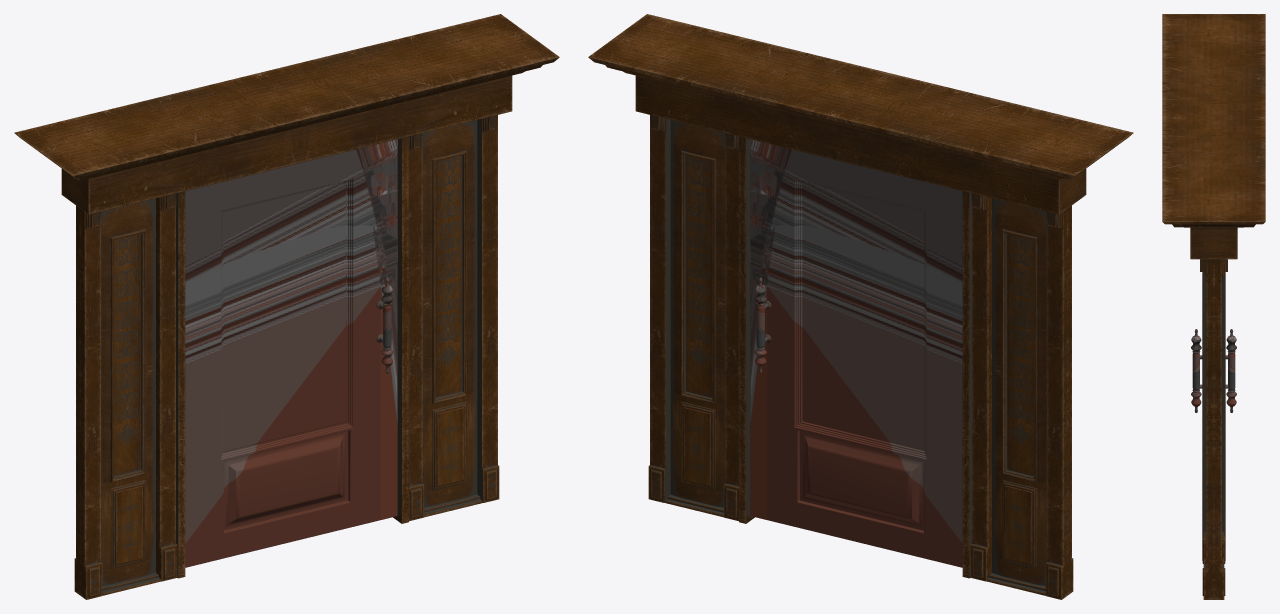
The picture shows the model from 3 angles, left to right: view 1: azimuth 30°, elevation 25°; view 2: azimuth 150°, elevation 25°; view 3: azimuth 270°, elevation 25°; orthographic projection. The views are drawn at different scales.
Parts seen in each view (by area): view 1: Base_2, Door_2; view 2: Base_2, Door_2; view 3: Base_2, Door_2.
Part boxes in pixels (bbox=[...]): Base_2: bbox=[14, 14, 559, 599]; Door_2: bbox=[185, 139, 397, 567]; Base_2: bbox=[588, 14, 1133, 599]; Door_2: bbox=[750, 139, 962, 567]; Base_2: bbox=[1162, 14, 1265, 599]; Door_2: bbox=[1191, 329, 1236, 412].
Bounding box in the file's own units: 7.72 × 6.83 × 1.62.
